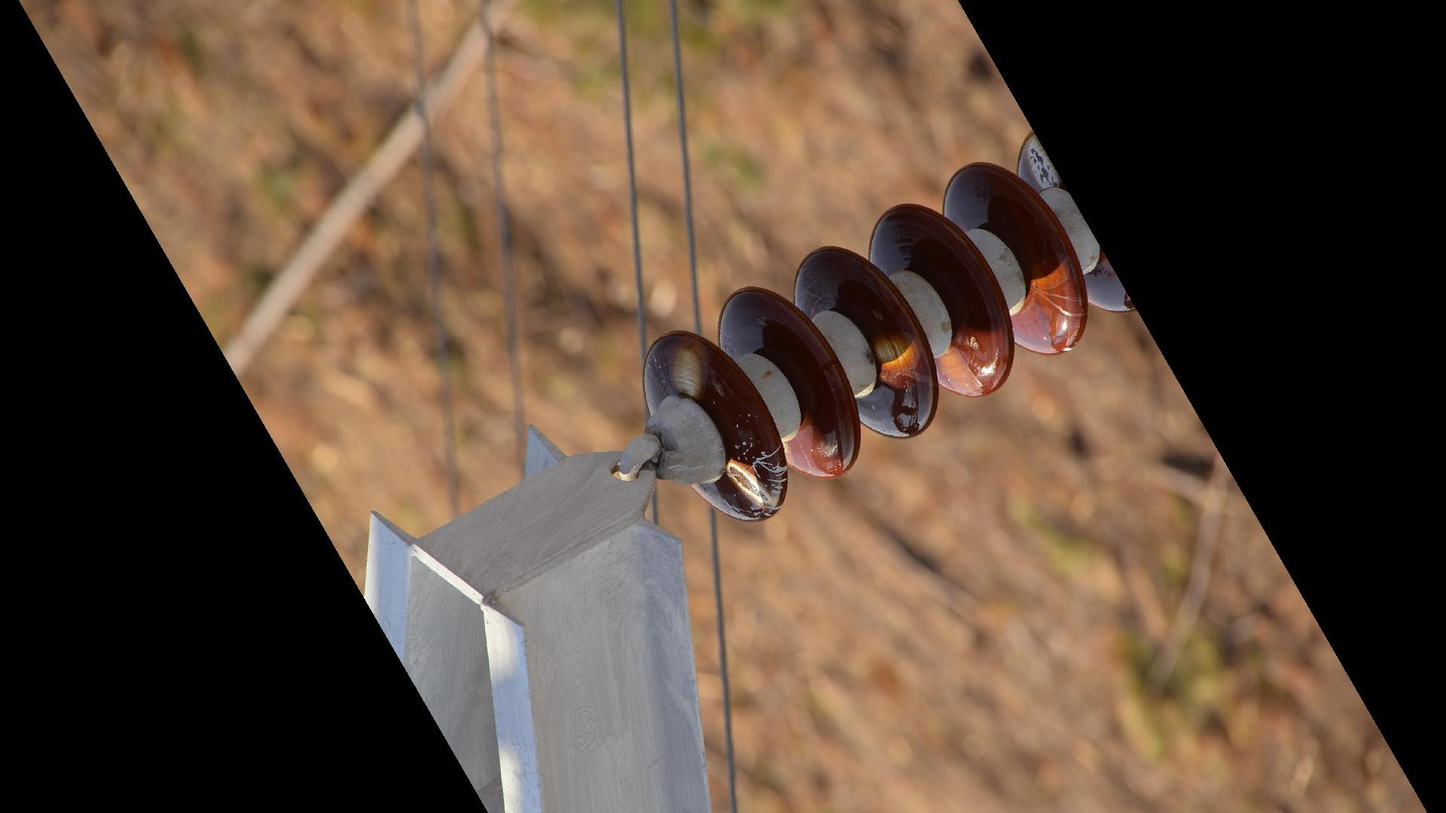insulator: (637, 125, 1137, 528)
insulator_flashover: (723, 456, 773, 507), (870, 329, 921, 379), (1021, 131, 1063, 191), (938, 347, 984, 401), (665, 343, 704, 400)
